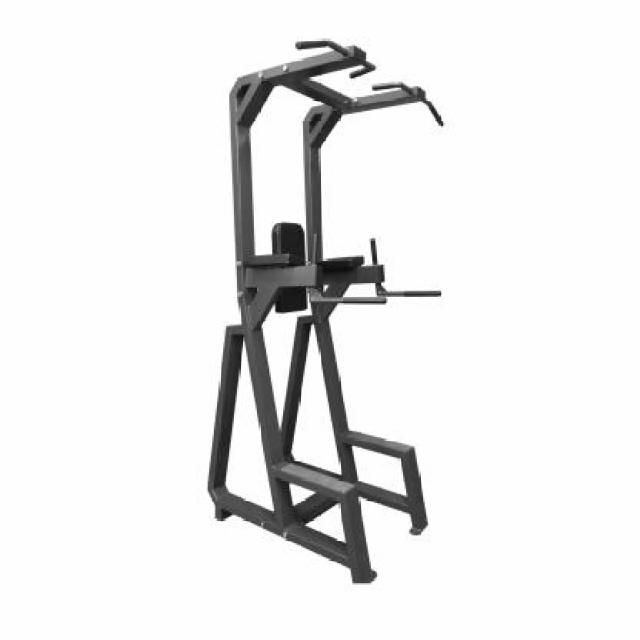chinning dipping: (206, 35, 443, 583)
